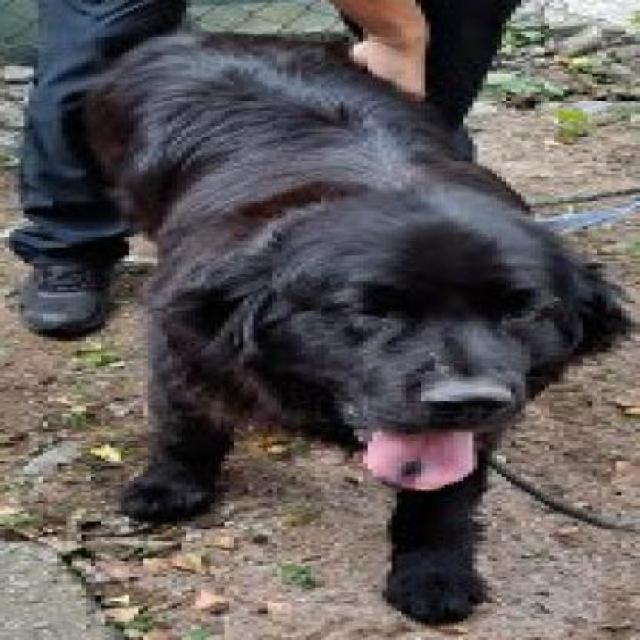Dog: (71, 25, 635, 629)
